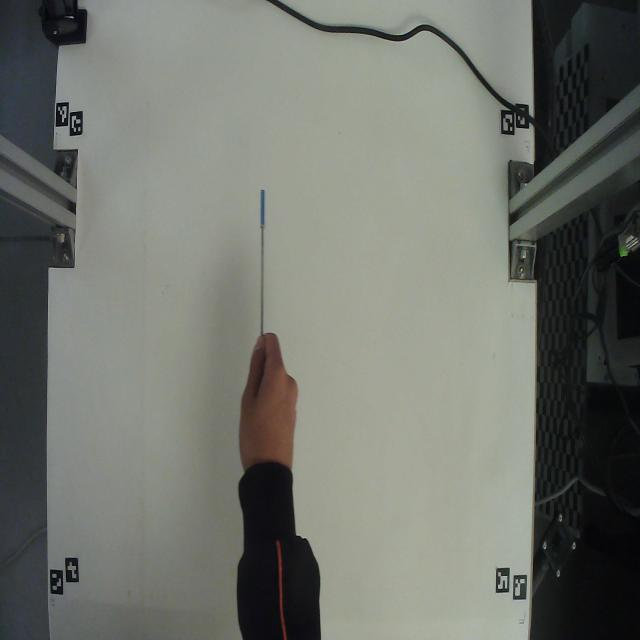NoPres: (246, 172, 278, 334)
